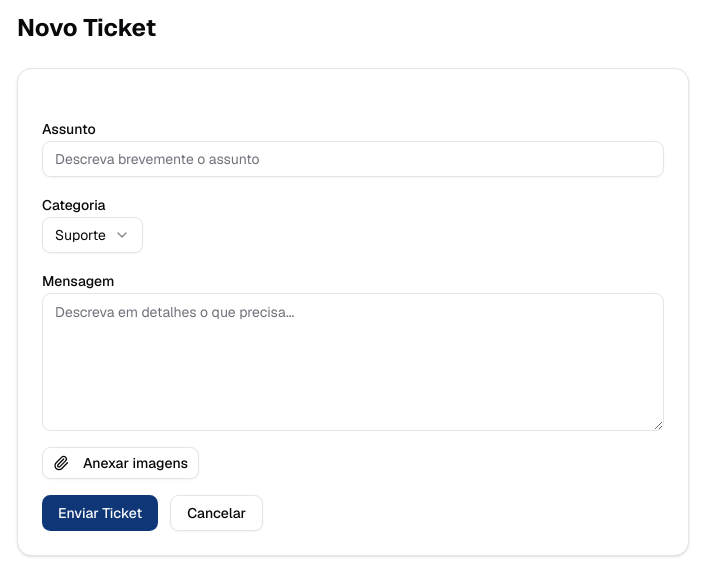
NewTicketPage › successful submission › shows 'Enviando...' while the request is in flight
The image size is (707, 574).
Type "Assunto" into the field labelled "Assunto" at (353, 159), box [42,141,664,177]
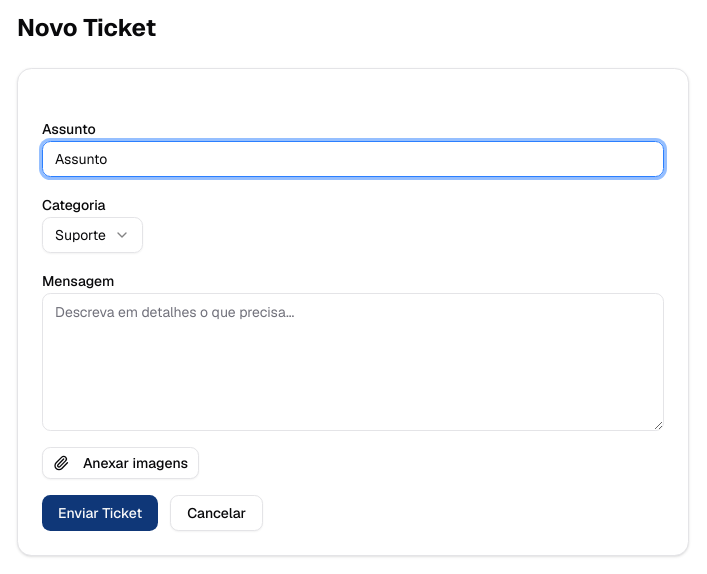
Type "Mensagem" into the text box labelled "Mensagem" at (353, 362), box [42,293,664,431]
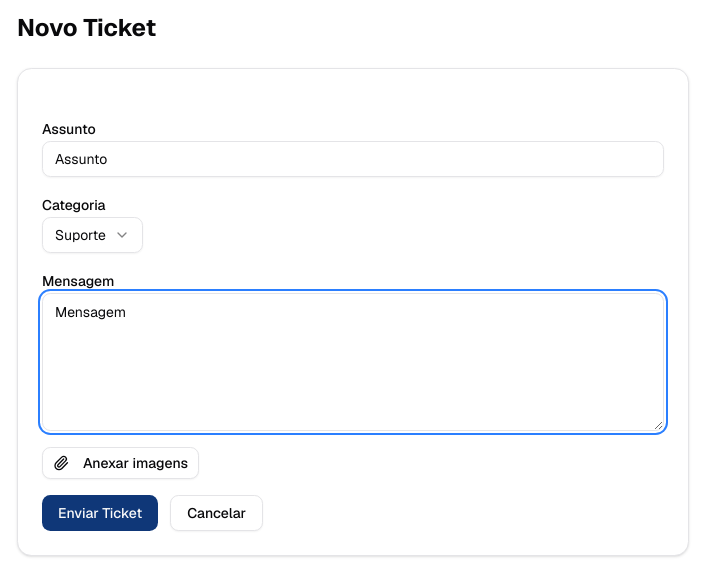
Click the button "Enviar Ticket" at (100, 513), box [42,495,158,531]
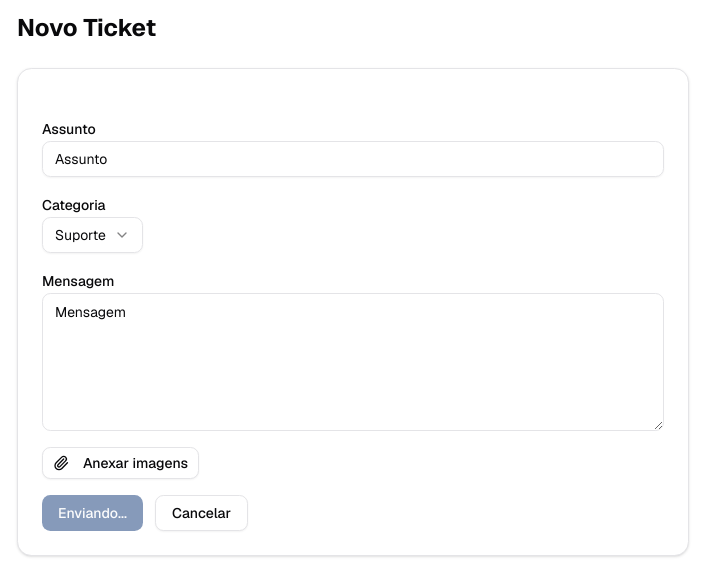
Result: the button "Enviando..." is shown at [42,495,143,531]
